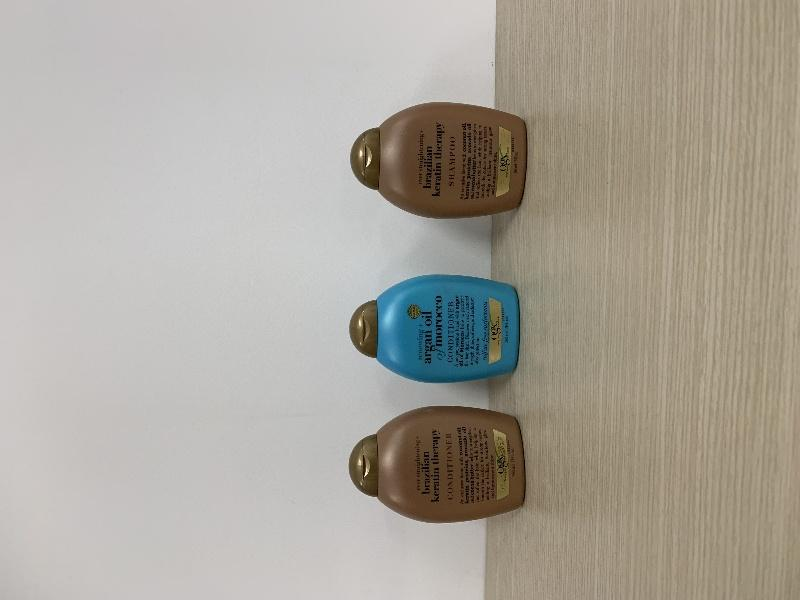ArganOilOfMorocco_Conditioner: (350, 275, 520, 384)
BrazilianKeratinTherapy_Shampoo: (350, 103, 527, 219)
BrazilianKerationTherapy_Conditioner: (351, 406, 526, 523)
